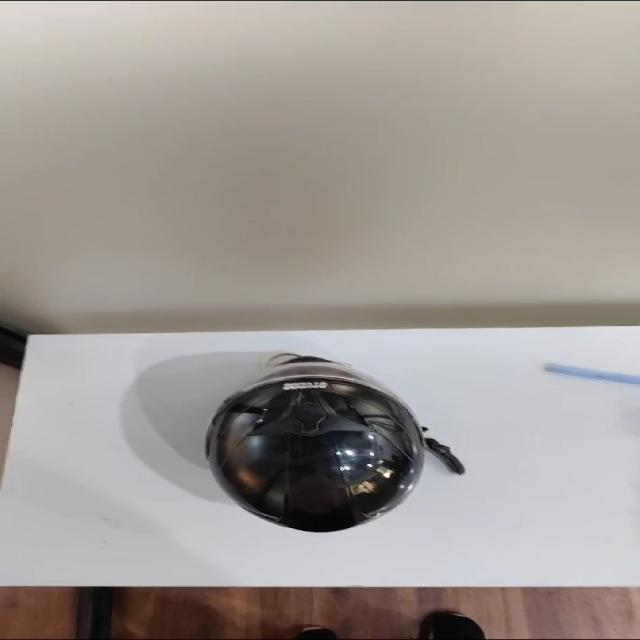helmet: (207, 352, 463, 532)
